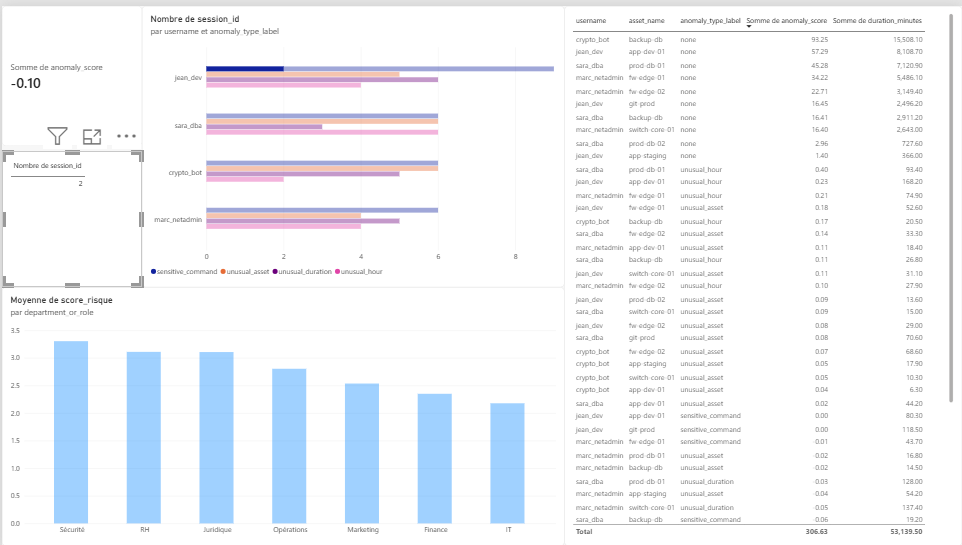

Layout of this report page (visuals, bound fields, positions):
{"tool":"powerbi","page":{"name":"Page 1","canvas":[1920,1080],"ordinal":0},"visuals":[{"type":"cardVisual","fields":{"Data":["Avg(public fact_wallix_session.anomaly_score)"]},"box":[0,0,280,280],"z":0},{"type":"tableEx","fields":{"Values":["public fact_wallix_session.session_id"]},"box":[0,290,280,272.5],"z":1},{"type":"clusteredBarChart","fields":{"Category":["public dim_user.username"],"Series":["public dim_anomaly_type.anomaly_type_label"],"Y":["CountNonNull(public fact_wallix_session.session_id)"]},"box":[280,0,845,562.5],"z":2},{"type":"columnChart","fields":{"Category":["public dim_user.department_or_role"],"Y":["Avg(public fact_ad_audit.score_risque)"]},"box":[0,562.5,1125,517.5],"z":3},{"type":"tableEx","fields":{"Values":["public dim_user.username","public dim_asset.asset_name","public dim_anomaly_type.anomaly_type_label","Sum(public fact_wallix_session.anomaly_score)","Sum(public fact_wallix_session.duration_minutes)"]},"box":[1125,0,795,1080],"z":4}]}

Visuals, with their boxes in screenshot pixels (x1, y1, x2, y2), scaled from the page's 1920x1080 canvas onto the 962x545 screenshot:
cardVisual - Avg(public fact_wallix_session.anomaly_score): {"left": 0, "top": 0, "right": 140, "bottom": 141}
tableEx - public fact_wallix_session.session_id: {"left": 0, "top": 146, "right": 140, "bottom": 284}
clusteredBarChart - public dim_user.username x public dim_anomaly_type.anomaly_type_label: {"left": 140, "top": 0, "right": 564, "bottom": 284}
columnChart - public dim_user.department_or_role x Avg(public fact_ad_audit.score_risque): {"left": 0, "top": 284, "right": 564, "bottom": 544}
tableEx - public dim_user.username x public dim_asset.asset_name: {"left": 564, "top": 0, "right": 961, "bottom": 544}
